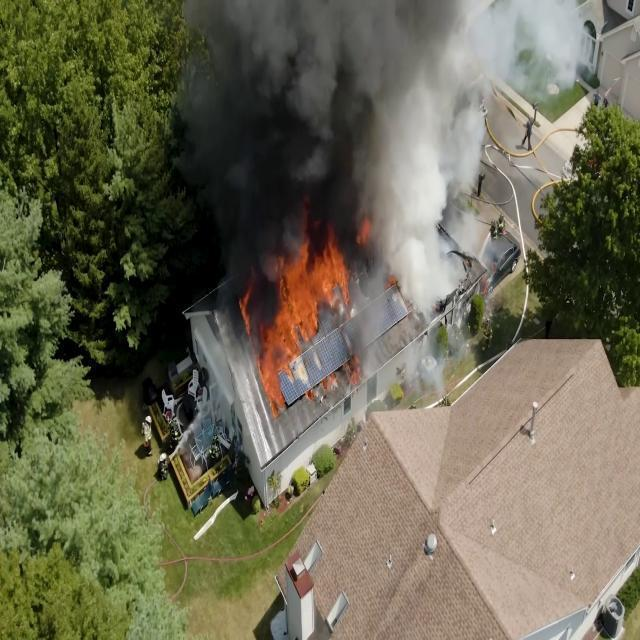Fire: (252, 228, 347, 401)
Smoke: (205, 11, 361, 190)
